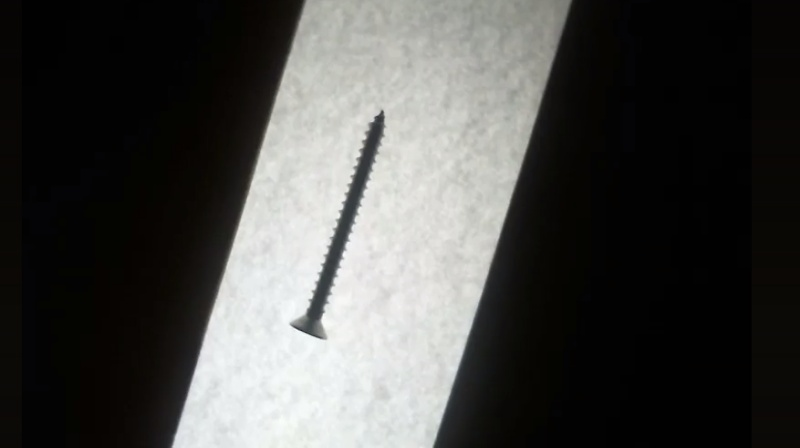S002: (286, 107, 388, 344)
